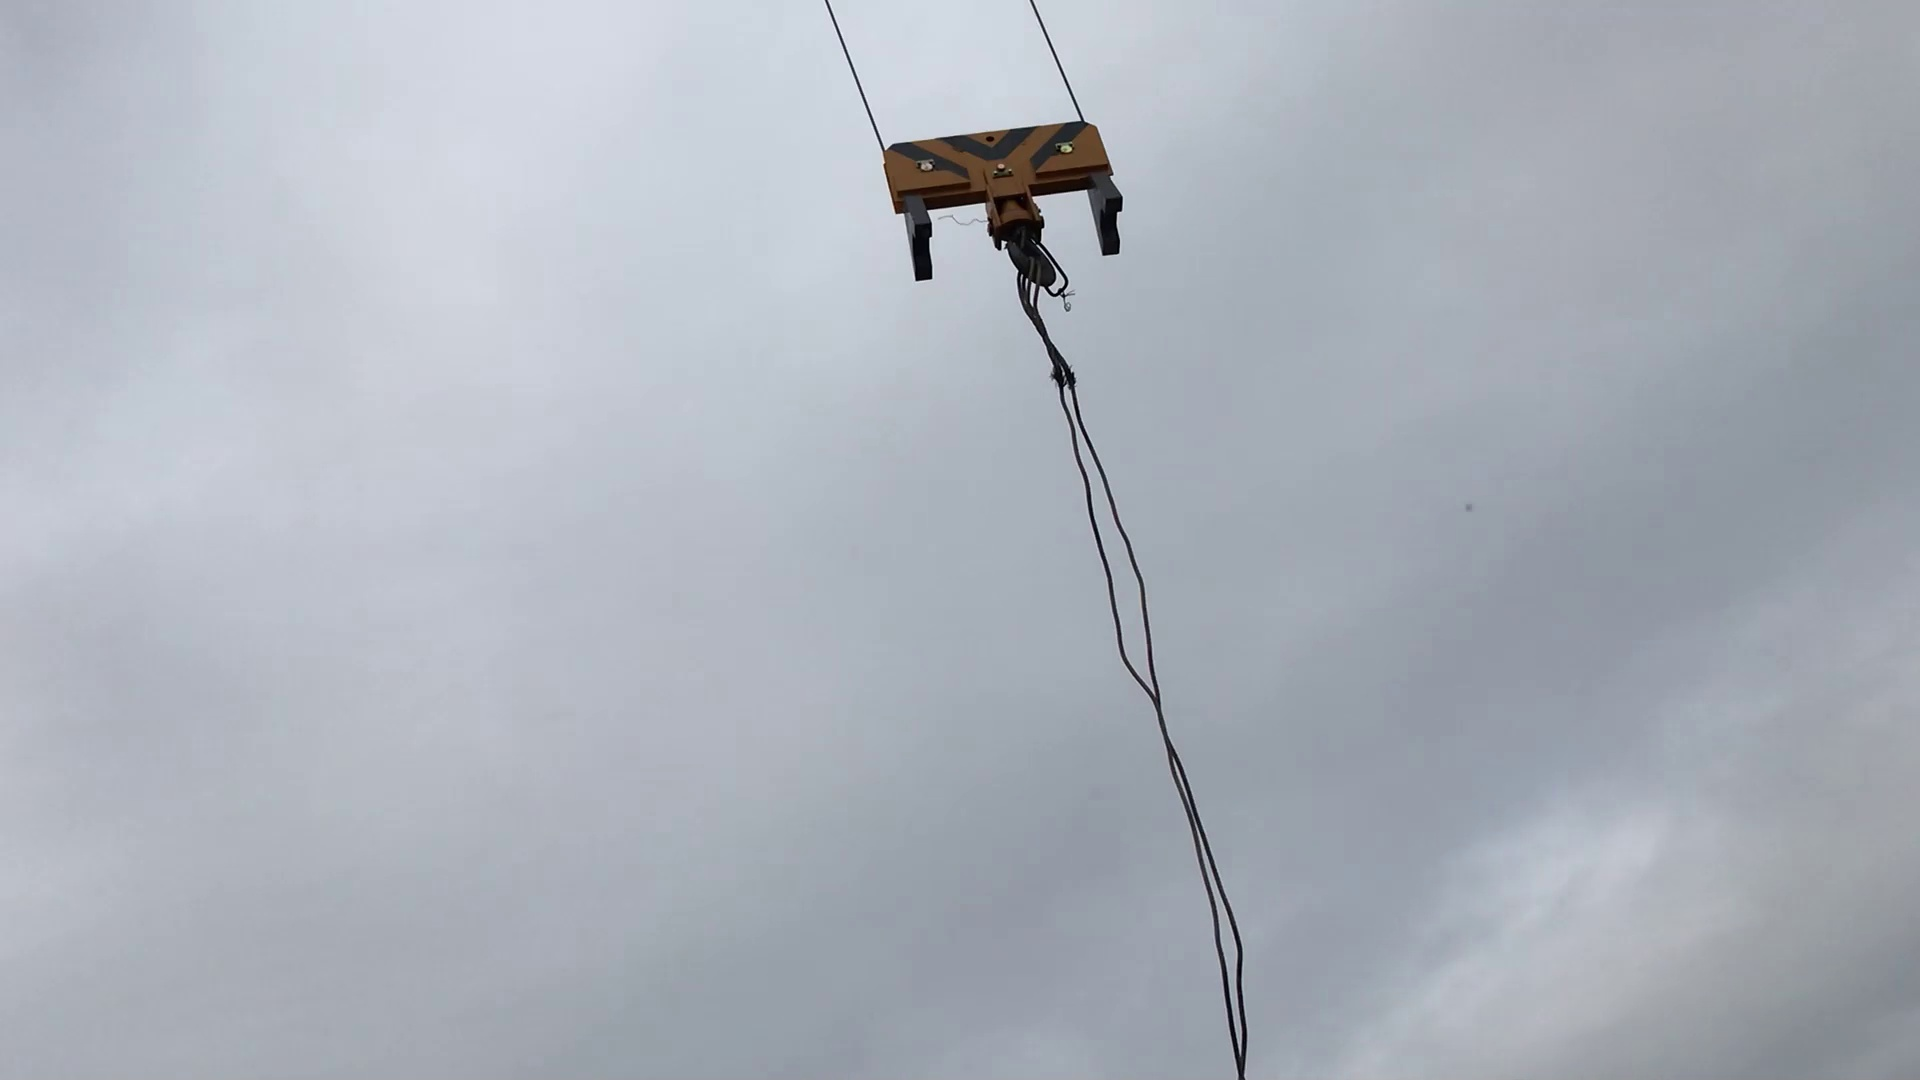hook: (851, 105, 1168, 287)
